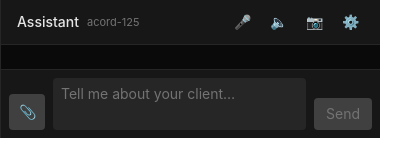
Test case: ChatPanel › disables Reset when both chat and form are empty
The width and height of the screenshot is (397, 160).
Click the button named "Settings".
click(350, 22)  # box 336,8 -> 364,36
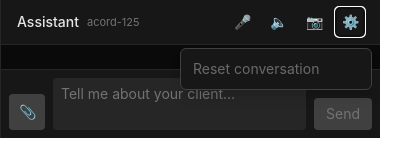
Check: the button "Reset conversation" is disabled, box 185,53 -> 367,85
